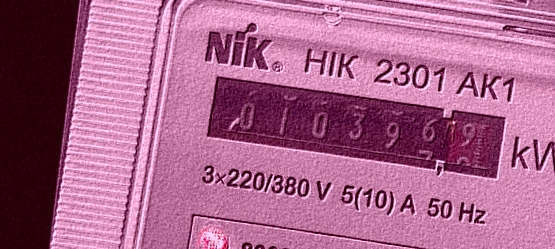0: (306, 107, 332, 142), (234, 98, 258, 133)
1: (274, 103, 291, 137)
3: (345, 110, 367, 144)
6: (417, 114, 441, 146)
9: (378, 118, 402, 153), (454, 120, 479, 152)
screen: (189, 62, 517, 194)
